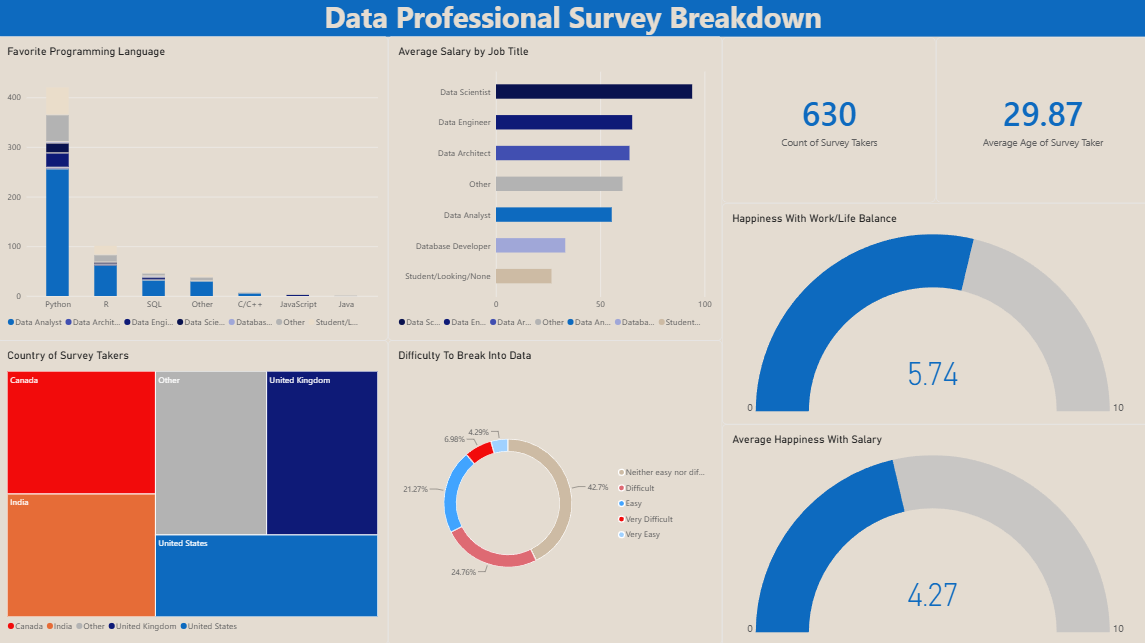

The dashboard page shown, as its layout file describes it:
{"tool":"powerbi","page":{"name":"Page 1","canvas":[1920,1080],"ordinal":0},"visuals":[{"type":"textbox","box":[0,0,1920,66],"z":0},{"type":"cardVisual","fields":{"Data":["Count(Data Professional Survey.Unique ID)"]},"box":[1208.3,66.7,356.7,276],"z":1000},{"type":"cardVisual","fields":{"Data":["Avg(Data Professional Survey.Q10 - Current Age)"]},"box":[1565,66.7,355,276],"z":2000},{"type":"barChart","title":"Average Salary by Job Title","fields":{"Category":["Data Professional Survey.Q1 - Which Title Best Fits your Current Role?.1"],"Series":["Data Professional Survey.Q1 - Which Title Best Fits your Current Role?.1"],"Y":["Avg(Data Professional Survey.Average salary)"]},"box":[651.7,65,556.7,508.3],"z":3000},{"type":"columnChart","title":"Favorite Programming Language","fields":{"Category":["Data Professional Survey.Q5 - Favorite Programming Language"],"Series":["Data Professional Survey.Q1 - Which Title Best Fits your Current Role?.1"],"Y":["CountNonNull(Data Professional Survey.Unique ID)"]},"box":[0,65,651.7,508.3],"z":4000},{"type":"treemap","title":"Country of Survey Takers","fields":{"Group":["Data Professional Survey.Q11 - Which Country do you live in?.1"],"Values":["Count(Data Professional Survey.Q11 - Which Country do you live in?.1)"]},"box":[0,571.7,651.7,508.3],"z":5000},{"type":"gauge","title":"Happiness With Work/Life Balance","fields":{"MaxValue":["Max(Data Professional Survey.Q6 - How Happy are you in your Current Position with the following? (Work/Life Balance))1"],"MinValue":["Min(Data Professional Survey.Q6 - How Happy are you in your Current Position with the following? (Work/Life Balance))"],"Y":["Avg(Data Professional Survey.Q6 - How Happy are you in your Current Position with the following? (Work/Life Balance))"]},"box":[1208.3,343.3,711.7,369],"z":6000},{"type":"gauge","title":"Average Happiness With Salary","fields":{"MaxValue":["Max(Data Professional Survey.Q6 - How Happy are you in your Current Position with the following? (Salary))"],"MinValue":["Min(Data Professional Survey.Q6 - How Happy are you in your Current Position with the following? (Salary))"],"Y":["Avg(Data Professional Survey.Q6 - How Happy are you in your Current Position with the following? (Salary))"]},"box":[1208.3,711.7,711.7,369],"z":7000},{"type":"donutChart","title":"Difficulty To Break Into Data","fields":{"Category":["Data Professional Survey.Q7 - How difficult was it for you to break into Data?"],"Y":["CountNonNull(Data Professional Survey.Q7 - How difficult was it for you to break into Data?)"]},"box":[651.7,571.7,556.7,508.3],"z":8000}]}

Visuals, with their boxes in screenshot pixels (x1, y1, x2, y2), scaled from the page's 1920x1080 canvas onto the 1145x643 screenshot:
textbox: (left=0, top=0, right=1144, bottom=39)
cardVisual - Count(Data Professional Survey.Unique ID): (left=721, top=40, right=933, bottom=204)
cardVisual - Avg(Data Professional Survey.Q10 - Current Age): (left=933, top=40, right=1144, bottom=204)
"Average Salary by Job Title" barChart: (left=389, top=39, right=721, bottom=341)
"Favorite Programming Language" columnChart: (left=0, top=39, right=389, bottom=341)
"Country of Survey Takers" treemap: (left=0, top=340, right=389, bottom=642)
"Happiness With Work/Life Balance" gauge: (left=721, top=204, right=1144, bottom=424)
"Average Happiness With Salary" gauge: (left=721, top=424, right=1144, bottom=642)
"Difficulty To Break Into Data" donutChart: (left=389, top=340, right=721, bottom=642)
